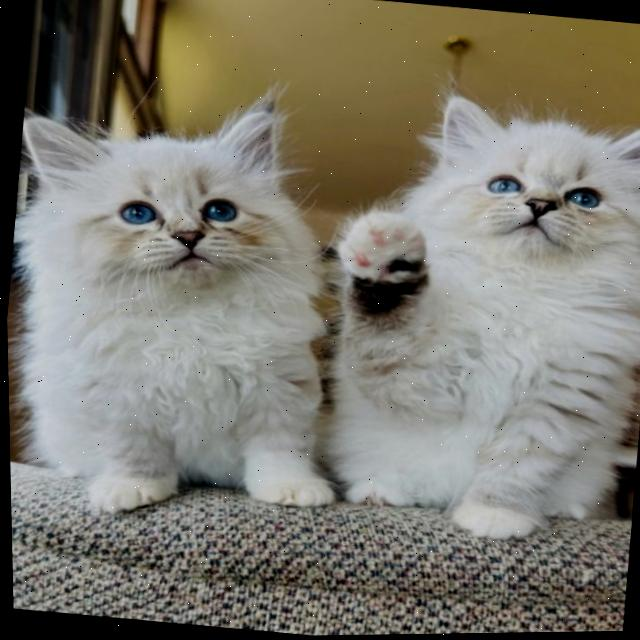Neva Masquerade: (1, 74, 368, 539), (306, 80, 640, 556)
